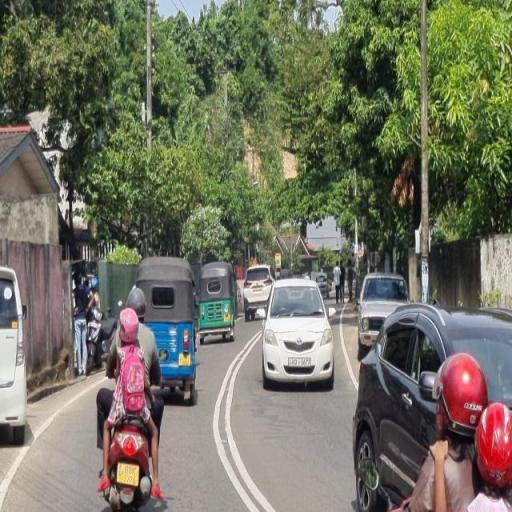double_white_line: (213, 325, 273, 512)
